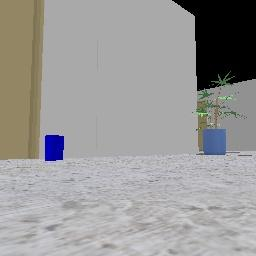albastru: (45, 135, 63, 160)
planta: (196, 72, 246, 154)
